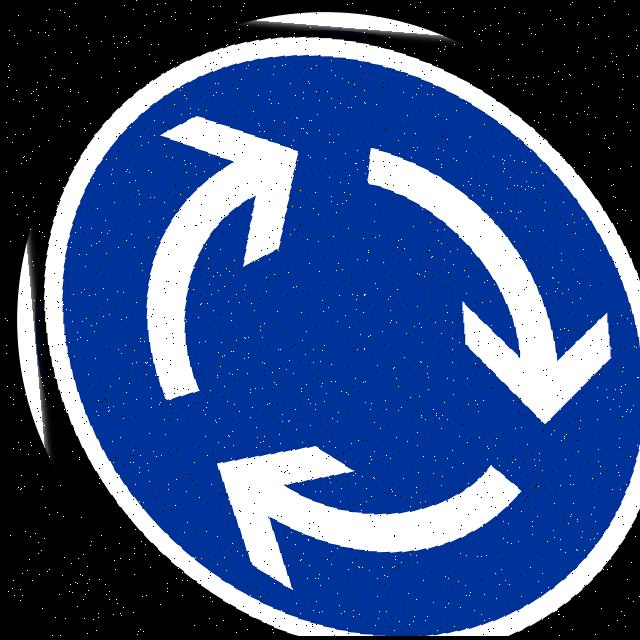roundabout: (5, 0, 640, 636)
